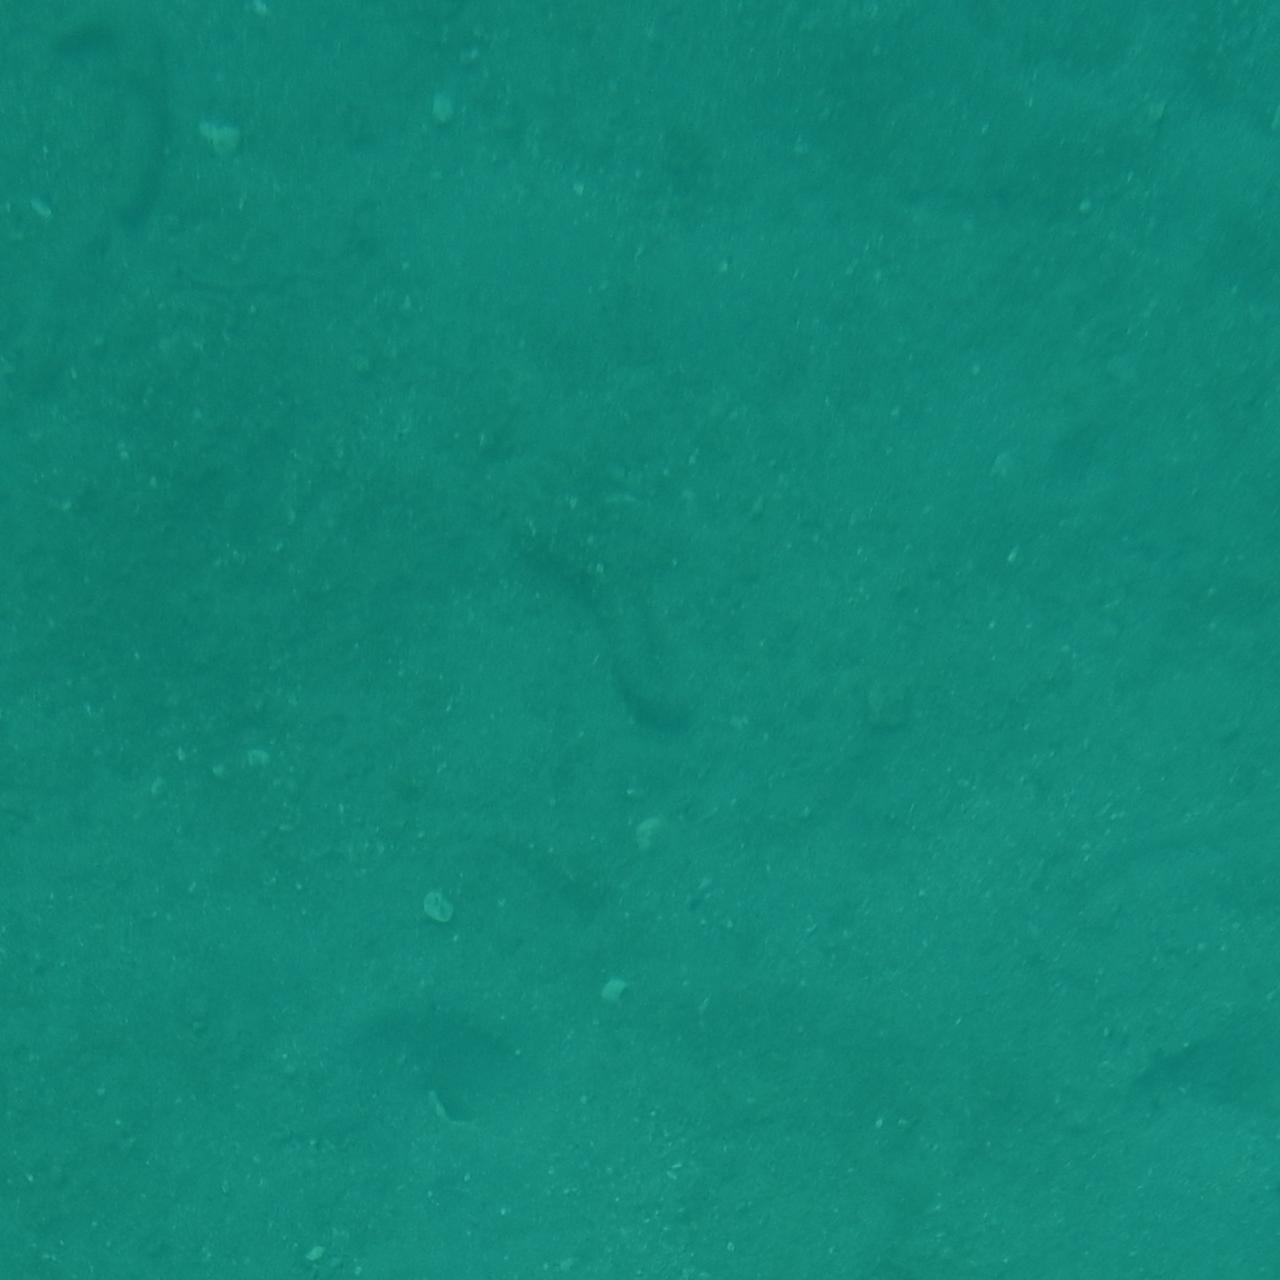Holothuria tubulosa: (553, 526, 727, 754)
